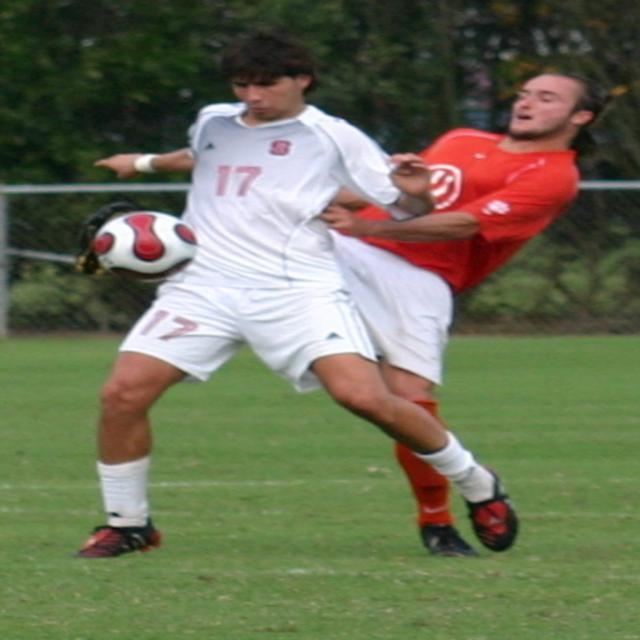football: (80, 201, 198, 288)
